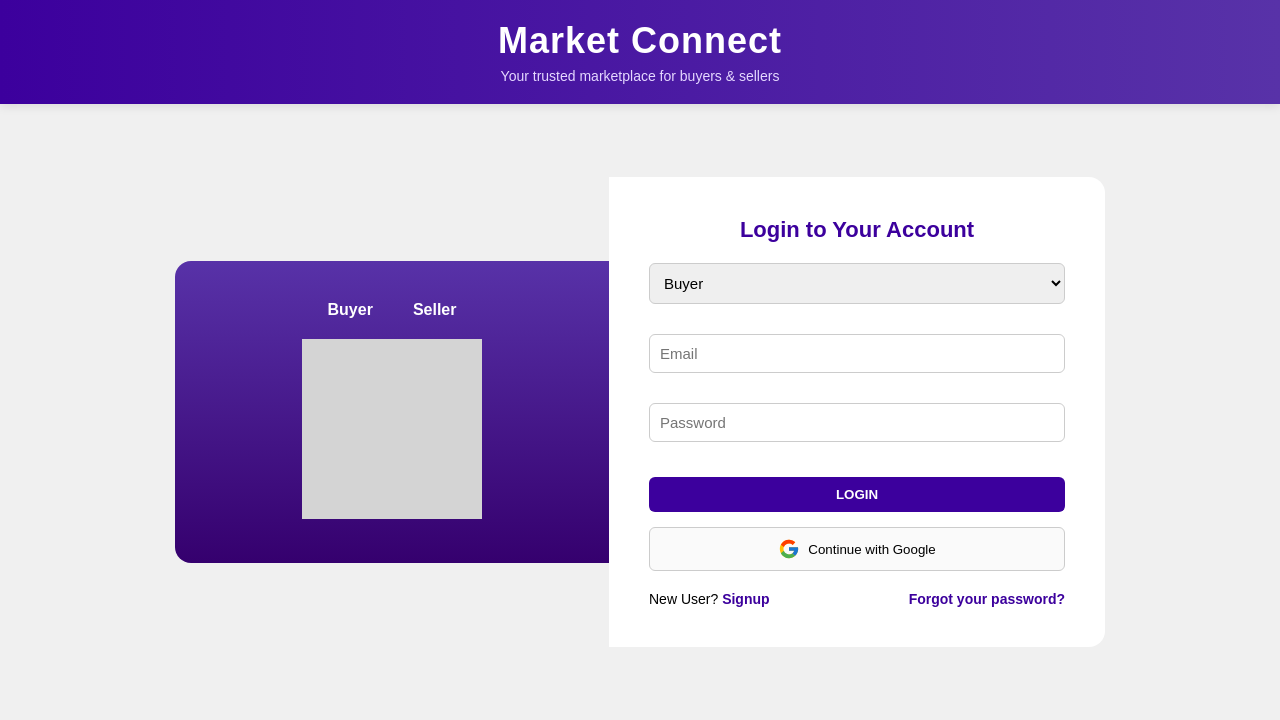
Test case: Login › handles network errors gracefully
Type "buyer@test.com" into the field with placeholder "Email" at x=857, y=354, box [649,334,1065,373]
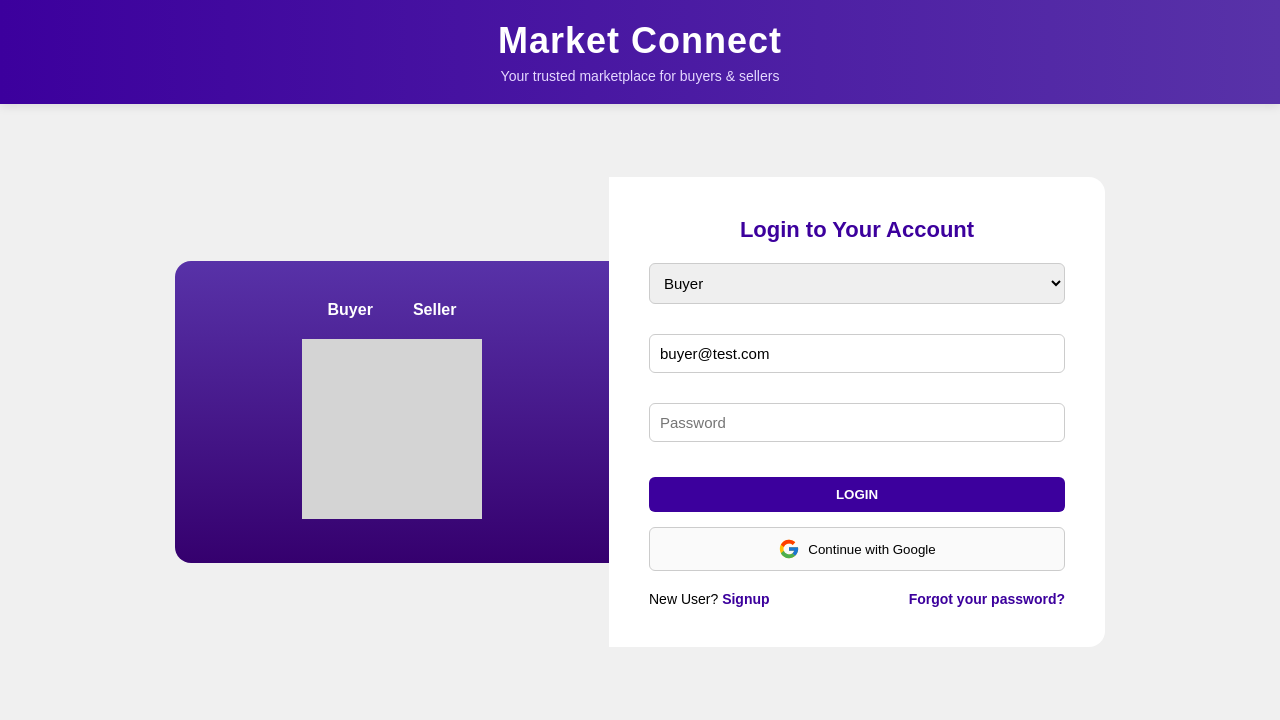
Type "Password1!" into the password field with placeholder "Password" at x=857, y=422, box [649,403,1065,442]
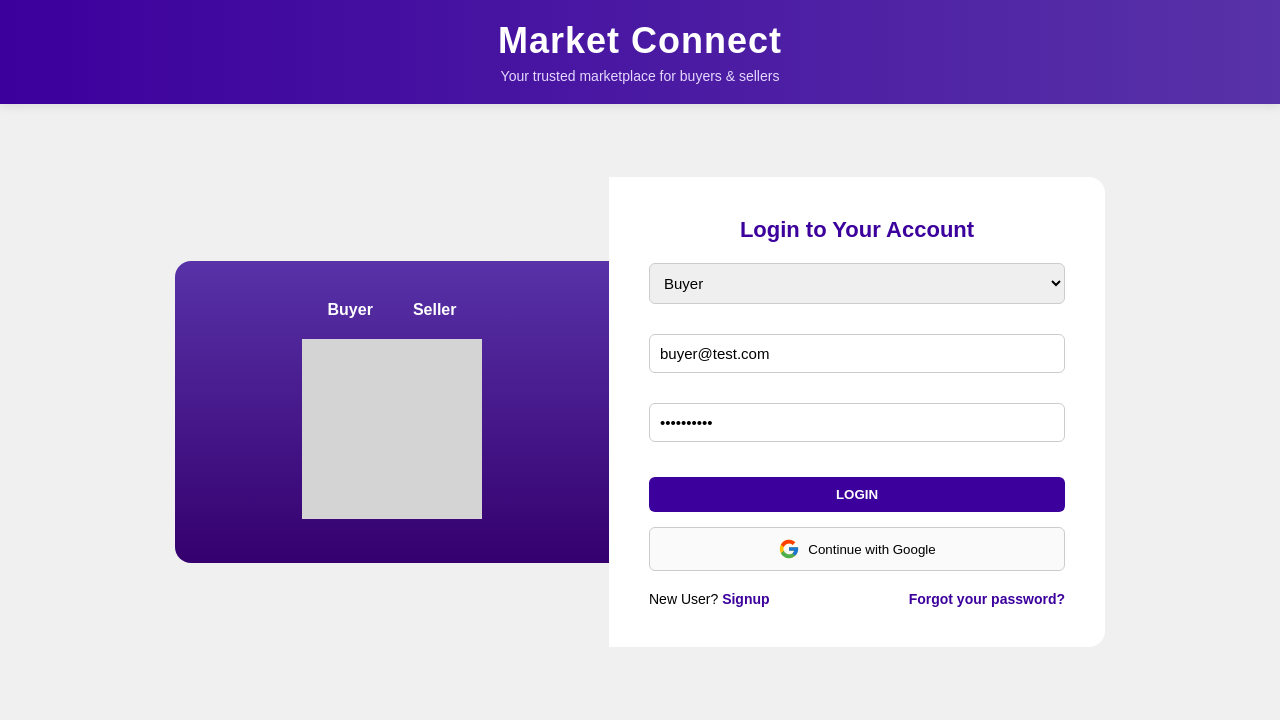
Click the button "LOGIN" at x=857, y=494, box [649,477,1065,512]
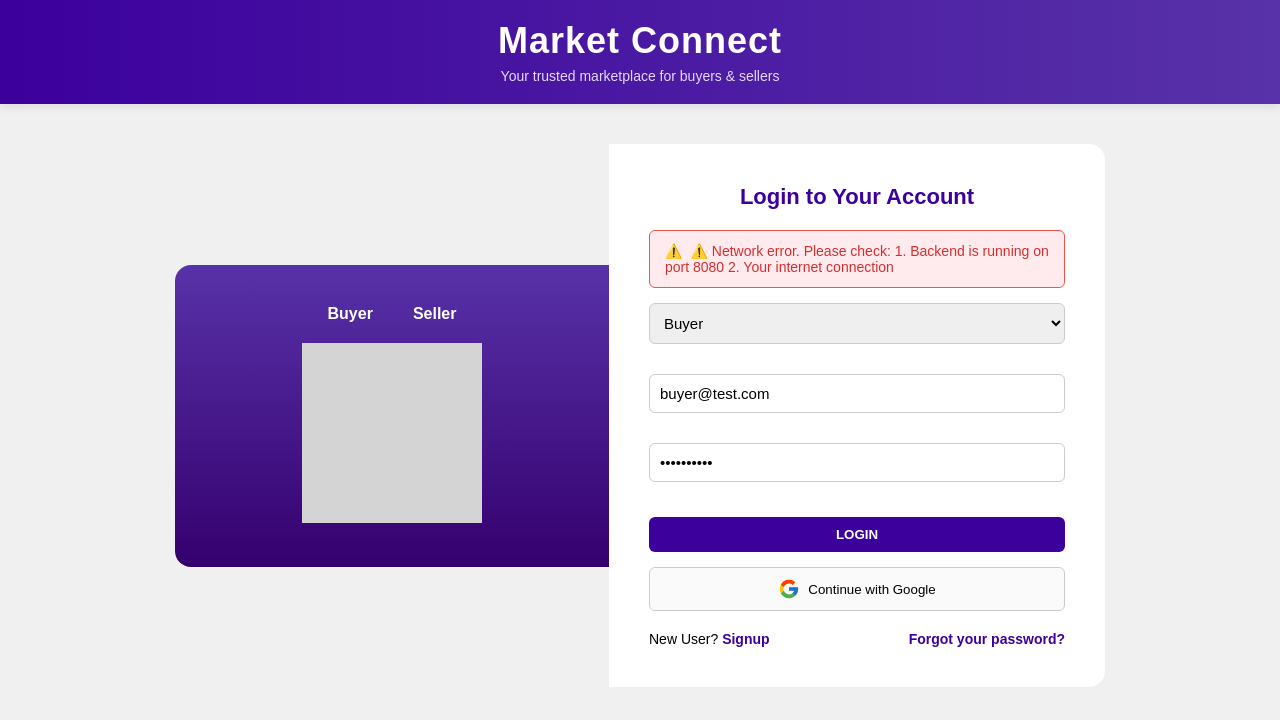
expect the text "Network error. Please check:" is shown: met, box [665,243,1049,275]
